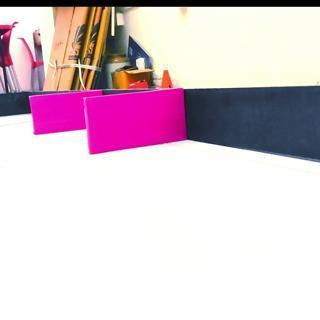xparking: (85, 96, 185, 148), (29, 94, 83, 130)
